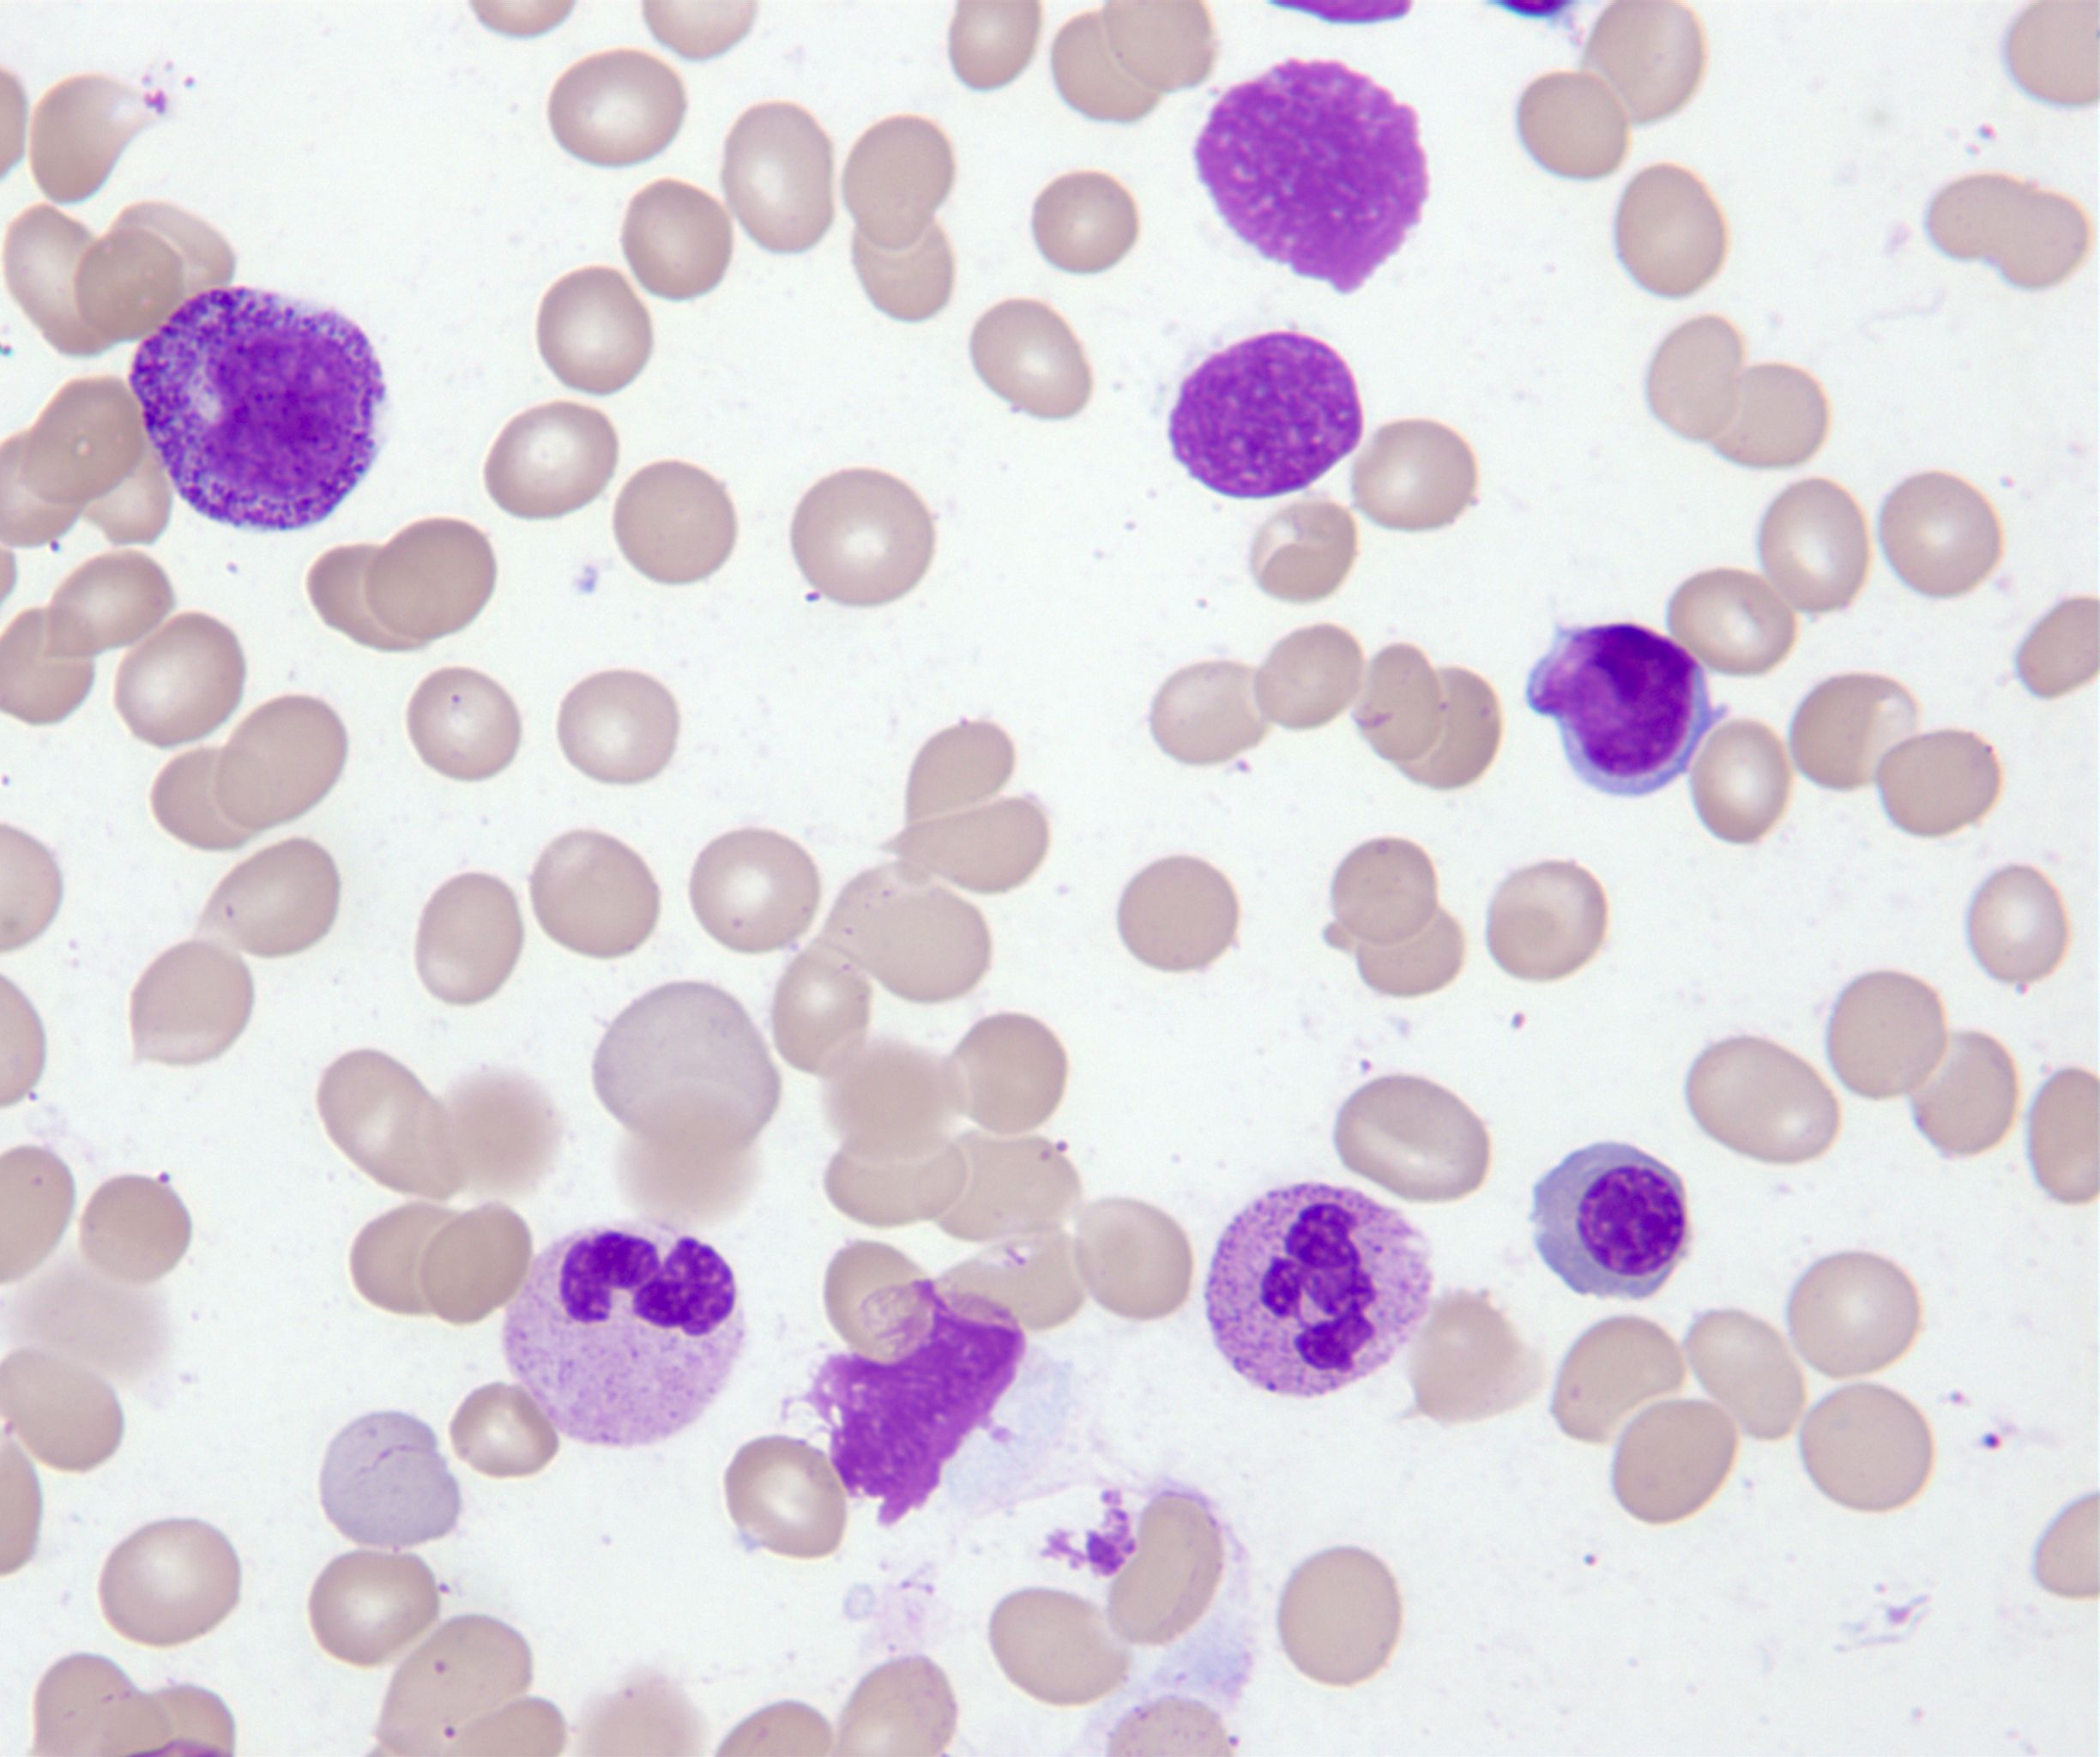24: (1531, 1139, 1687, 1300)
3: (131, 286, 384, 532)
32: (1528, 623, 1708, 796)
5: (501, 1227, 745, 1445)
6: (1207, 1186, 1430, 1398)
x: (808, 1279, 1026, 1528), (1198, 58, 1427, 295), (1169, 330, 1364, 499)
